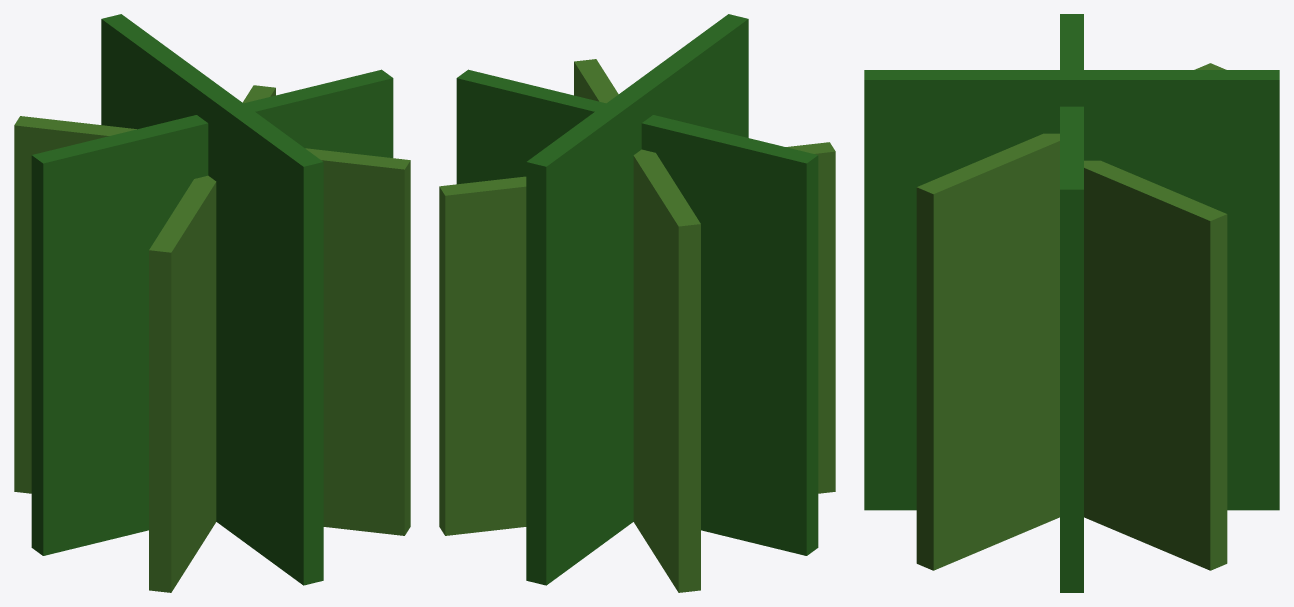
Rendered from grass_clump.obj.
3 renders of one model, left to right at view 1: azimuth 30°, elevation 25°; view 2: azimuth 150°, elevation 25°; view 3: azimuth 270°, elevation 25°, orthographic. The views are drawn at different scales.
Parts seen in each view (by area): view 1: Cube, Cube.002, Cube.003, Cube.001; view 2: Cube, Cube.002, Cube.001, Cube.003; view 3: Cube.002, Cube.003, Cube.001, Cube.
Part boxes in pixels (x1,y1,x2,y2): Cube: (31, 69, 393, 555); Cube.002: (101, 14, 323, 585); Cube.003: (14, 116, 410, 535); Cube.001: (149, 85, 275, 592); Cube: (456, 69, 818, 555); Cube.002: (526, 14, 748, 585); Cube.001: (439, 142, 835, 535); Cube.003: (574, 59, 700, 592); Cube.002: (864, 70, 1279, 510); Cube.003: (916, 63, 1226, 570); Cube.001: (1084, 160, 1227, 570); Cube: (1060, 14, 1083, 592).
Size of the model in its own units: 0.7 by 0.8 by 0.7.
